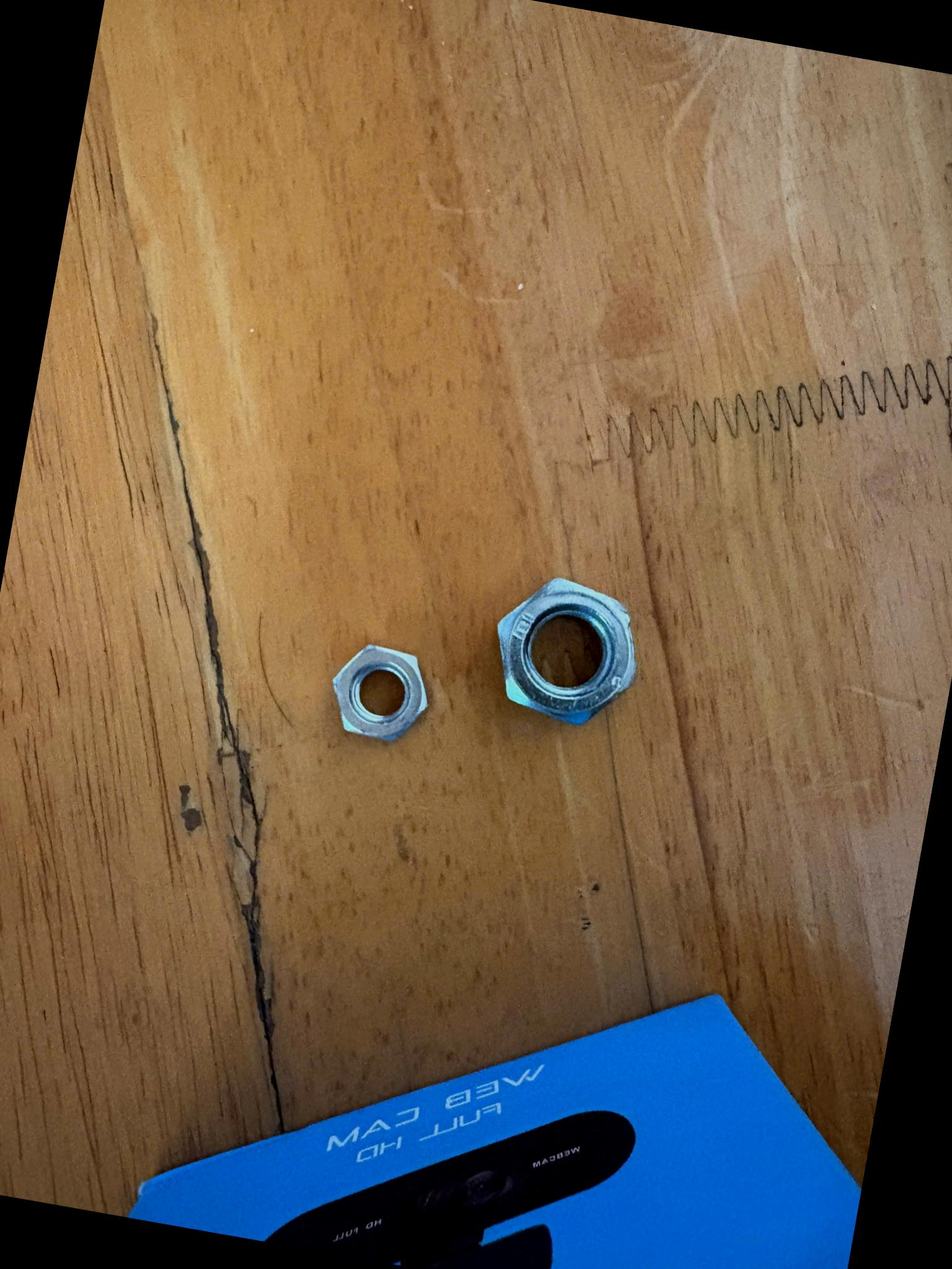nut: (471, 556, 656, 746), (314, 626, 439, 771)
